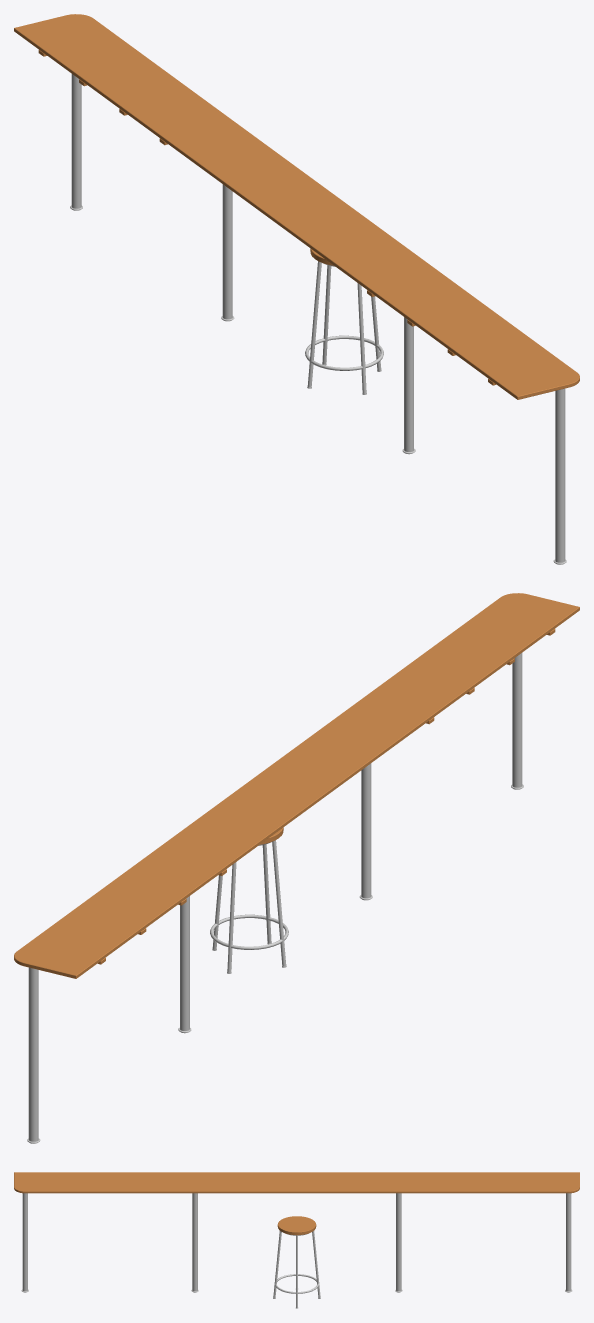
Rendered from SM_bartable.fbx.
3 renders of one model, top to bottom at view 1: azimuth 30°, elevation 25°; view 2: azimuth 150°, elevation 25°; view 3: azimuth 270°, elevation 25°, orthographic. The views are drawn at different scales.
Parts seen in each view (by area): view 1: SM_bartable, SM_barchair; view 2: SM_bartable, SM_barchair; view 3: SM_bartable, SM_barchair.
Part boxes in pixels (bbox=[...]): SM_bartable: bbox=[14, 14, 579, 564]; SM_barchair: bbox=[305, 248, 383, 394]; SM_bartable: bbox=[14, 593, 579, 1143]; SM_barchair: bbox=[210, 827, 288, 973]; SM_bartable: bbox=[14, 1172, 579, 1292]; SM_barchair: bbox=[273, 1216, 320, 1308].
Size of the model in its own units: 66.31 by 102 by 500.
